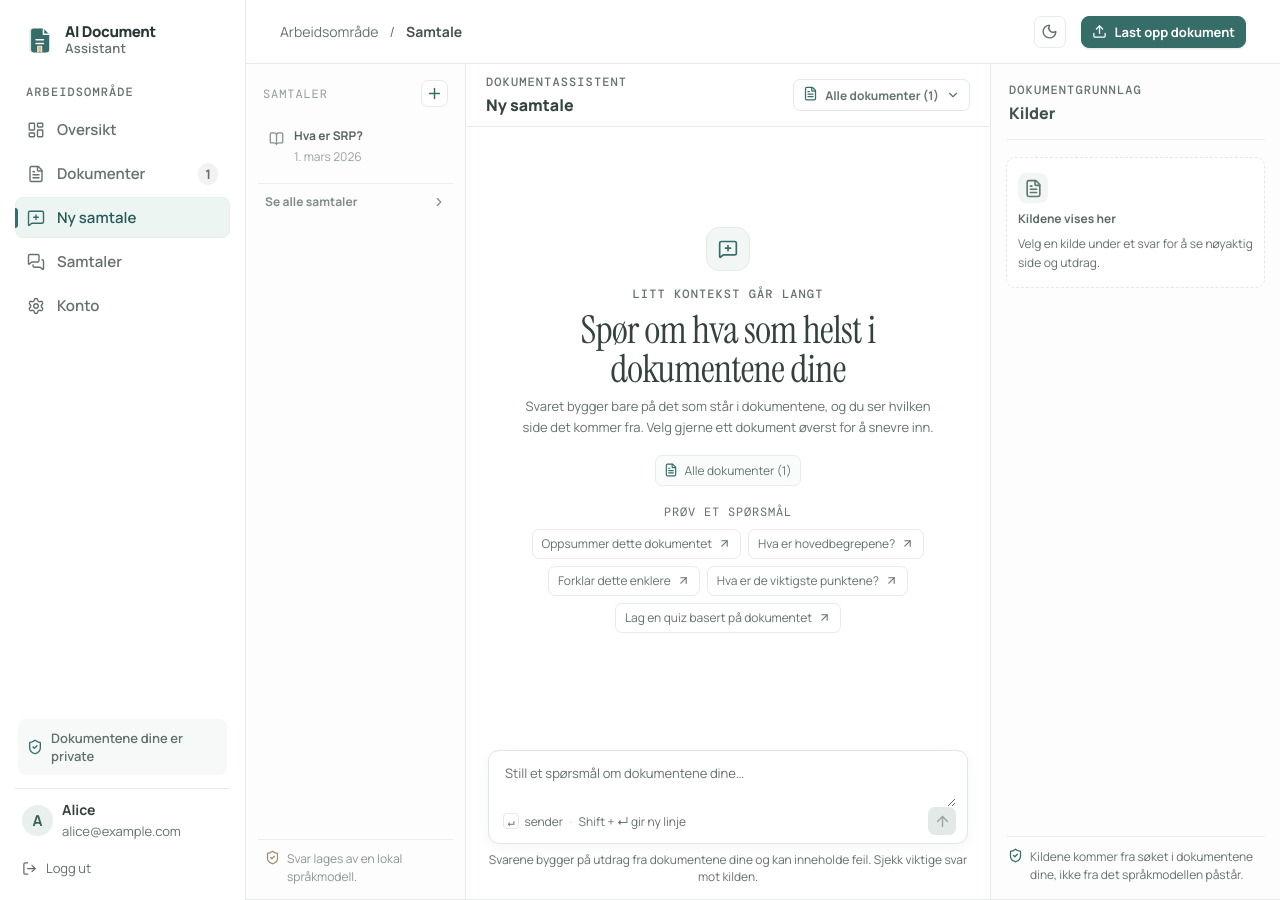
Test: asking questions › starts a new conversation on the first question and shows the answer with sources
This screenshot has width=1280, height=900.
Type "Hva er SRP?" into the text box labelled "spørsmål" at coordinates (730, 784), box [503, 761, 956, 807]
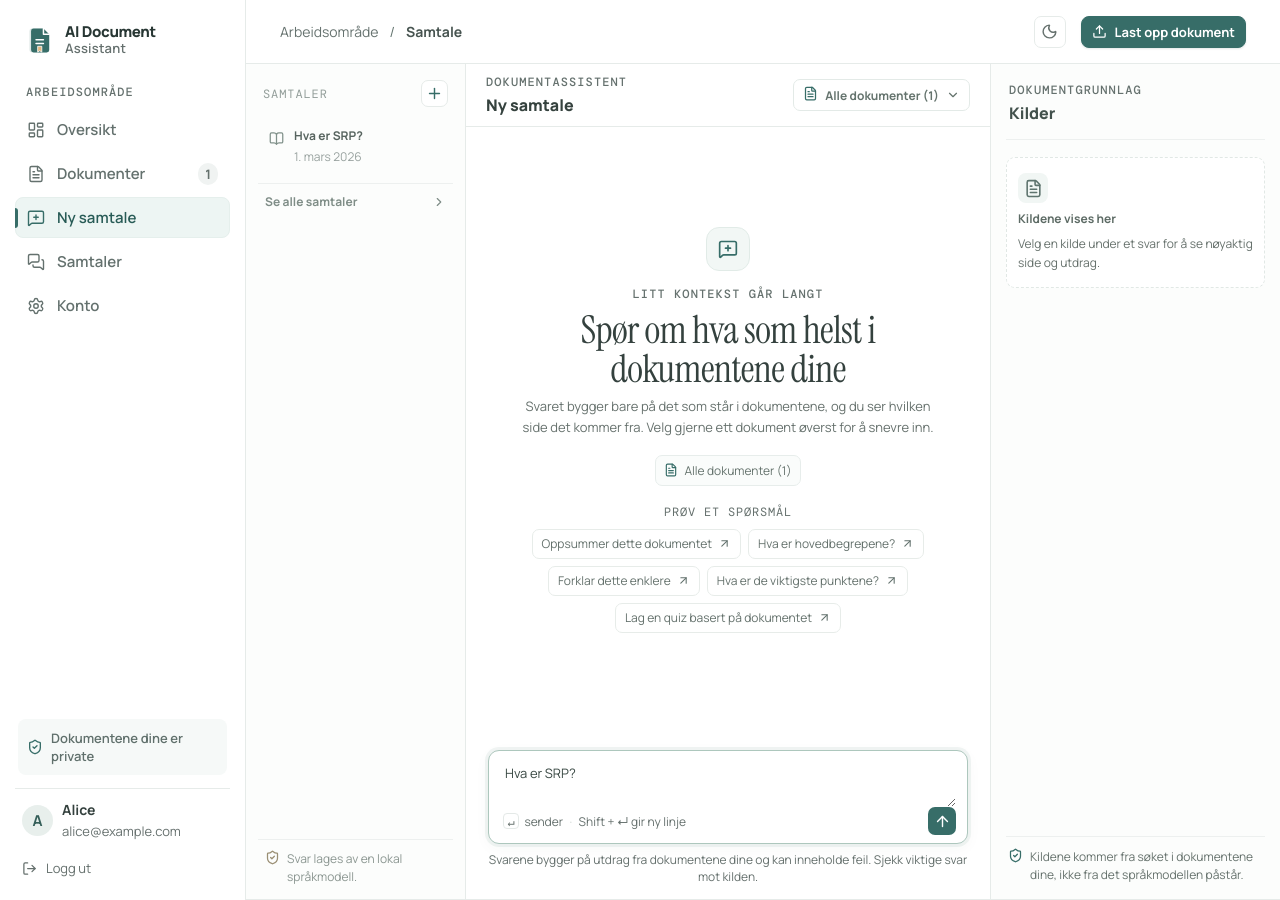
Click the button named "Send" at coordinates (942, 821), box [928, 807, 956, 835]
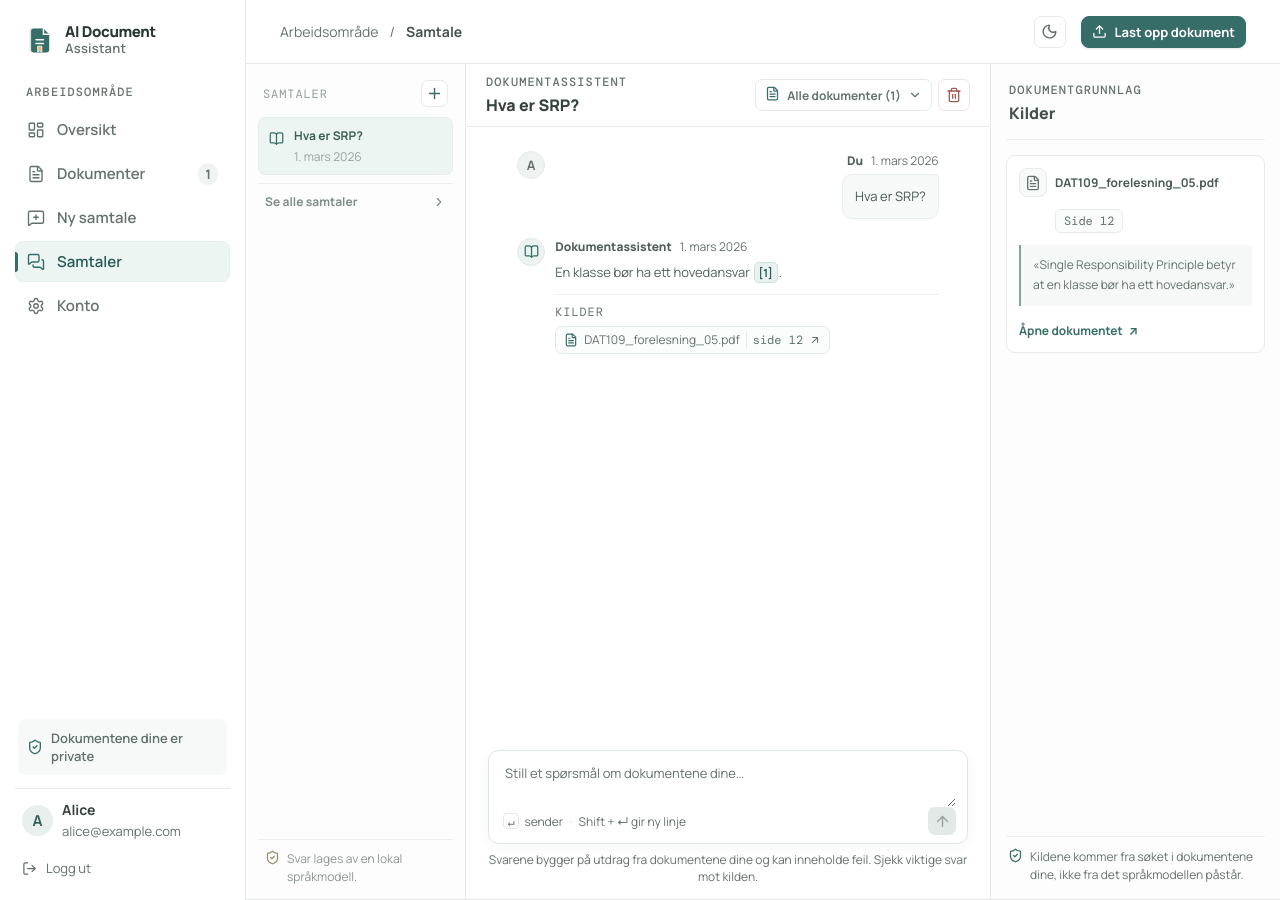
Expected: the button "DAT109_forelesning_05.pdf side 12" is shown, [555, 326, 830, 354]
